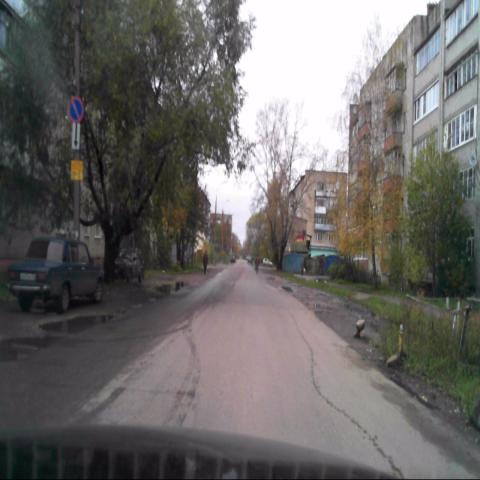3_28: (66, 94, 84, 122)
